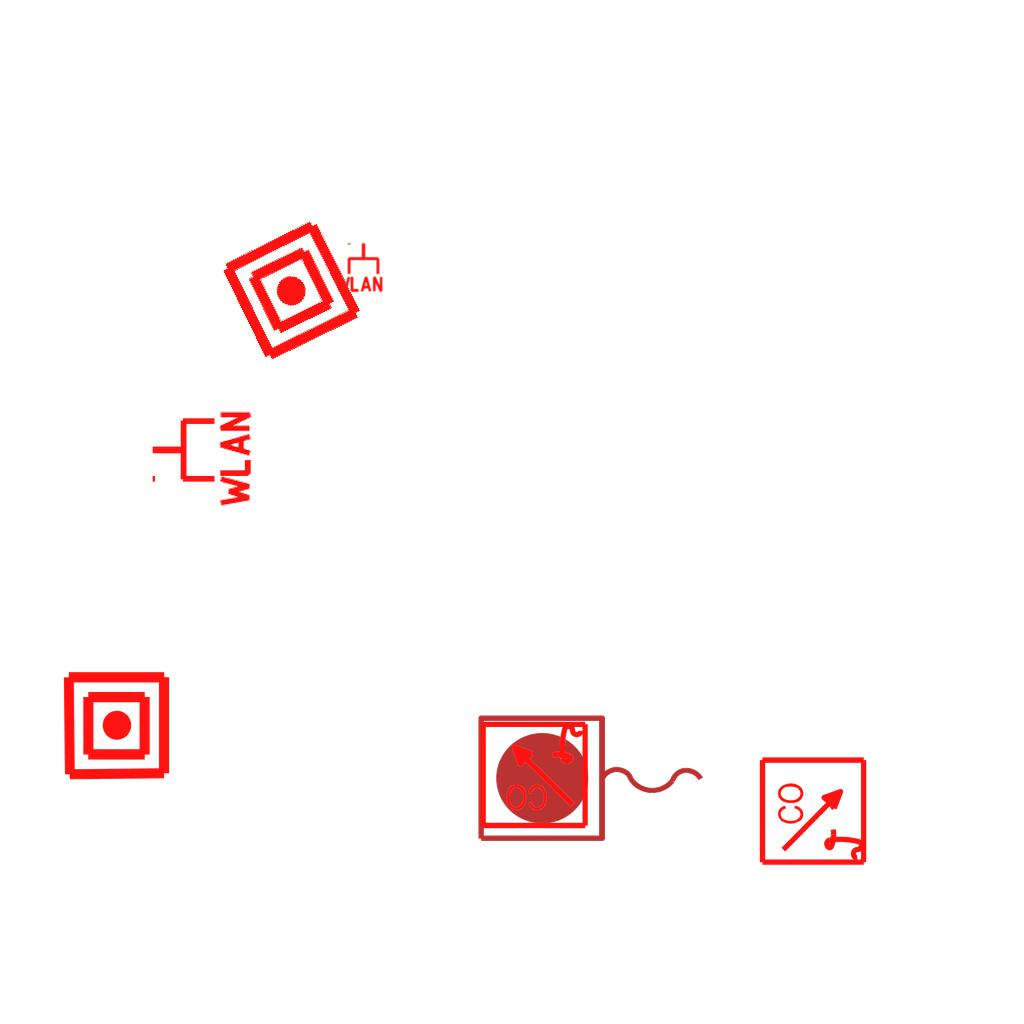NAM-Nichtautomatischer_Melder: (215, 214, 368, 367), (60, 669, 173, 782)
ROA_Rauchmelder_optisch_mit_Signalgeber_(Sockelsirene): (758, 754, 871, 867), (477, 717, 590, 830)
WLAN: (148, 407, 253, 511), (333, 241, 385, 293)
Zugtaster: (470, 708, 714, 852)
